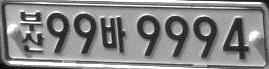4: (222, 17, 249, 58)
9: (192, 15, 218, 58), (164, 15, 189, 56), (136, 14, 160, 56), (46, 11, 69, 54), (73, 13, 97, 54)
바: (100, 16, 125, 52)
부산_V: (19, 10, 45, 53)
